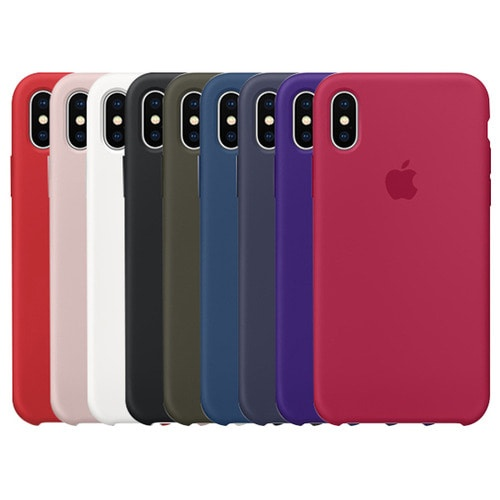apple: (382, 156, 422, 204)
